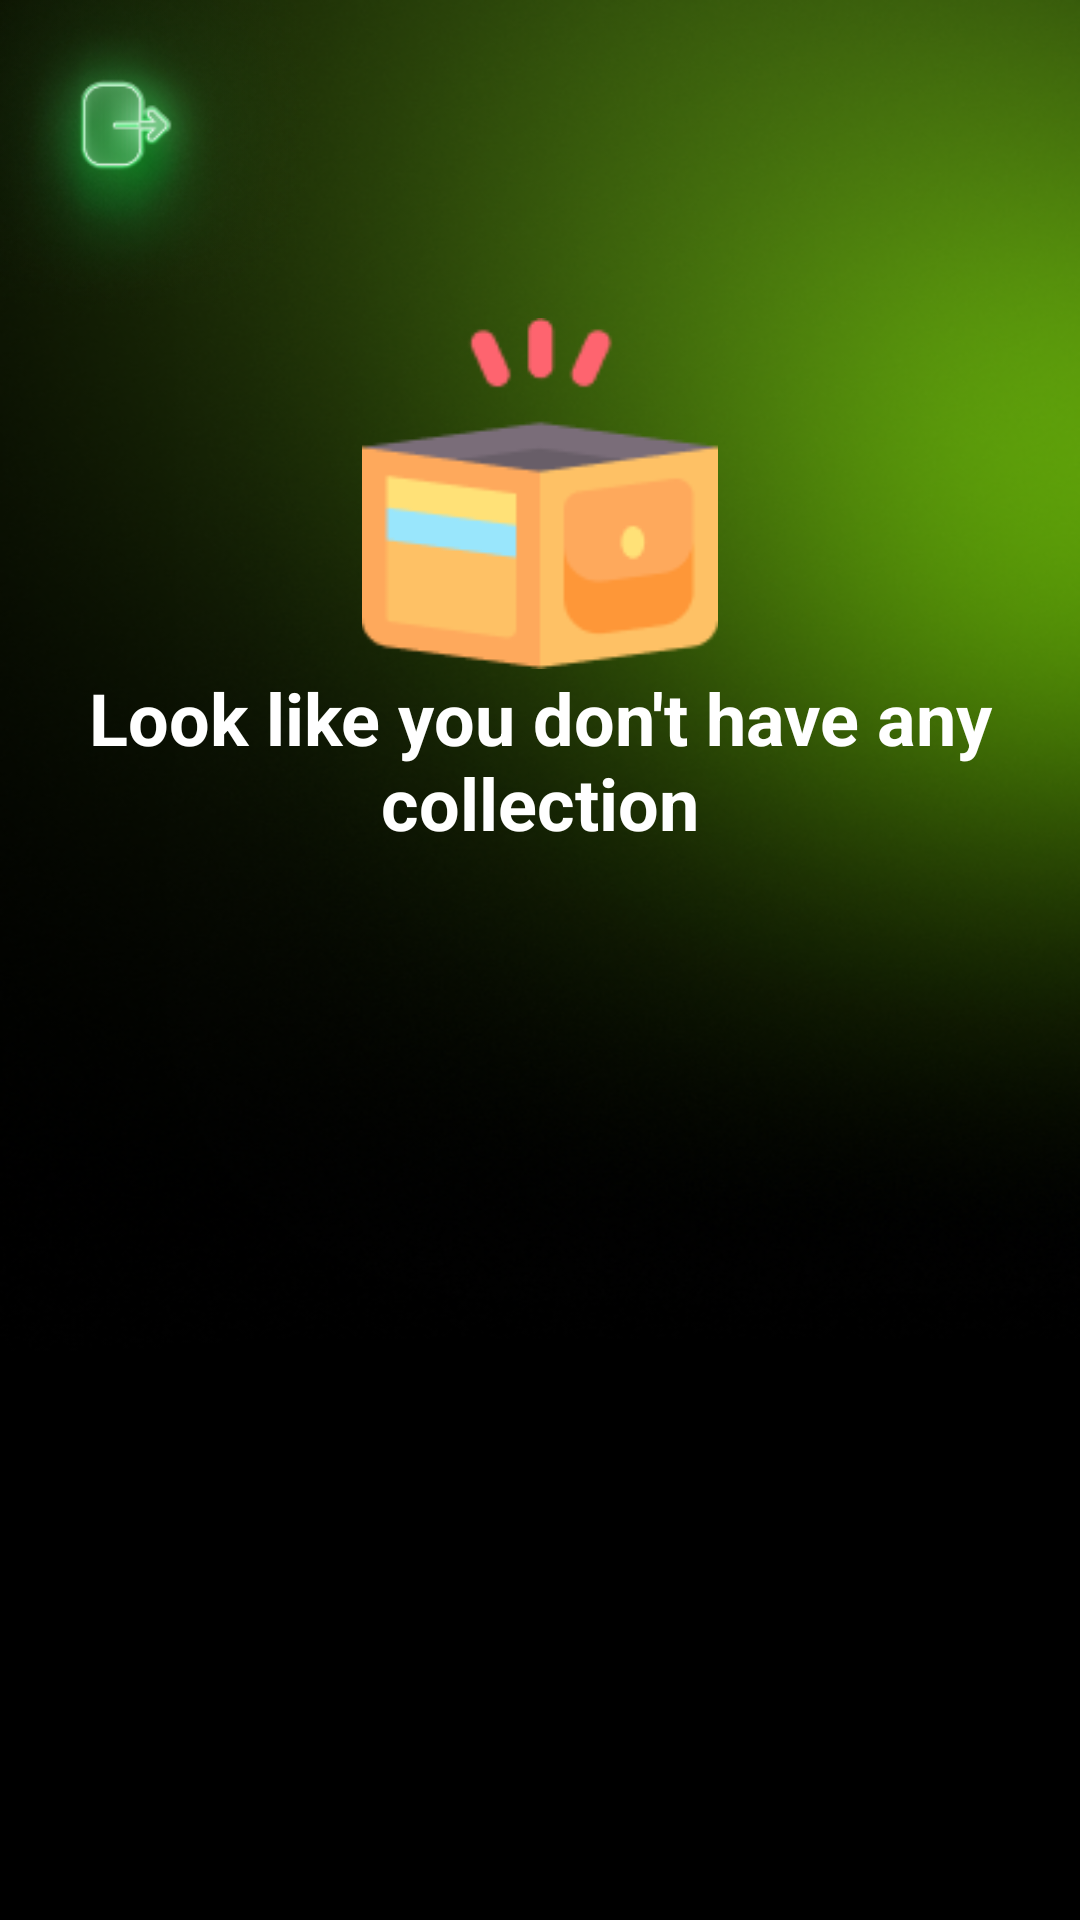

Point at icon controls on the screen. Image size 1080 × 1920, points as (x=x, y=y).
box: (x=540, y=493)
